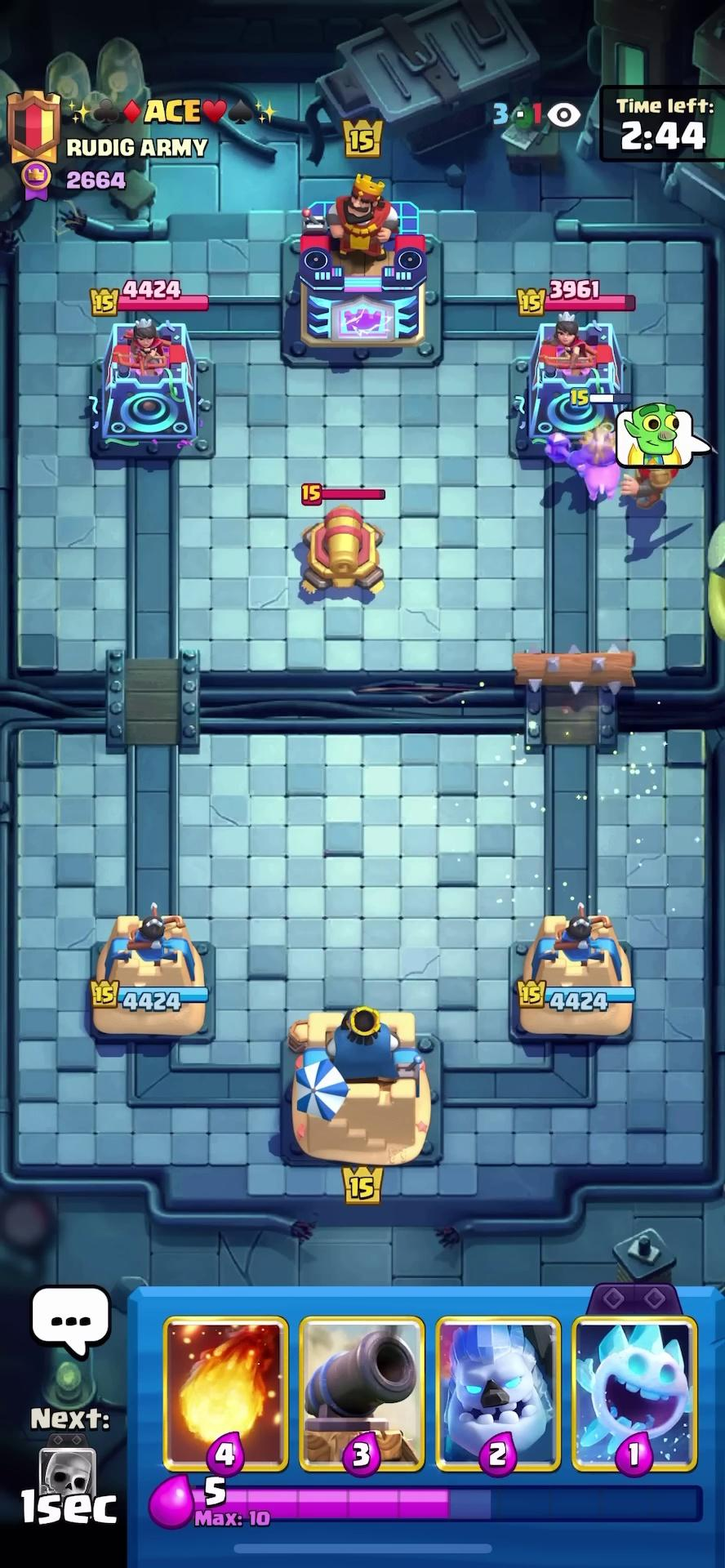hog_rider: (561, 408, 629, 508)
log: (492, 641, 655, 700)
